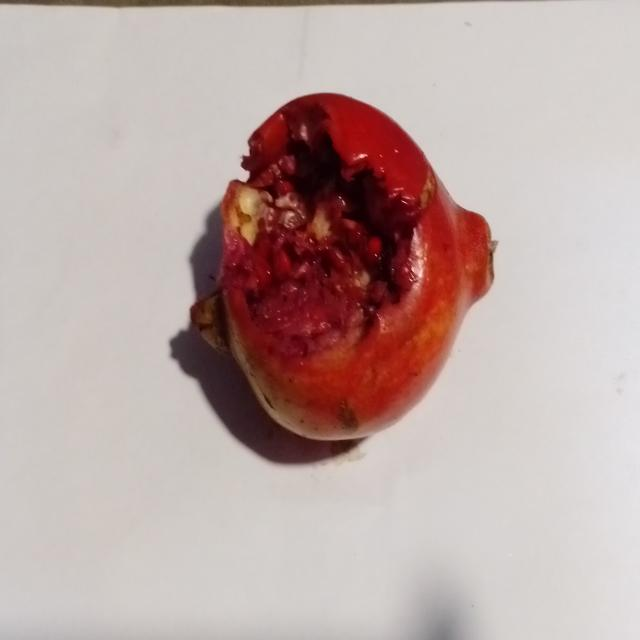Rotten: (192, 92, 498, 450)
